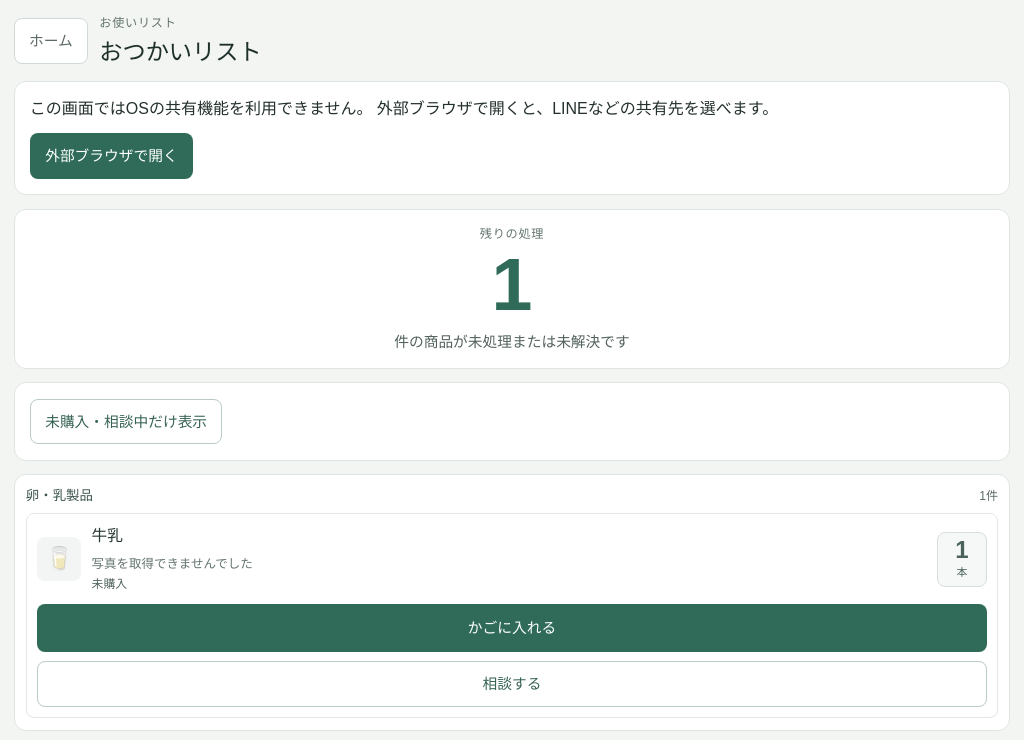
Test: ShoppingListPage product photo isolation › keeps the product and purchase controls usable when photo retrieval fails
What coordinates should you click on to do the following:
click the button "かごに入れる"
I would click on:
 (512, 628)
Its box is [37, 604, 987, 652].
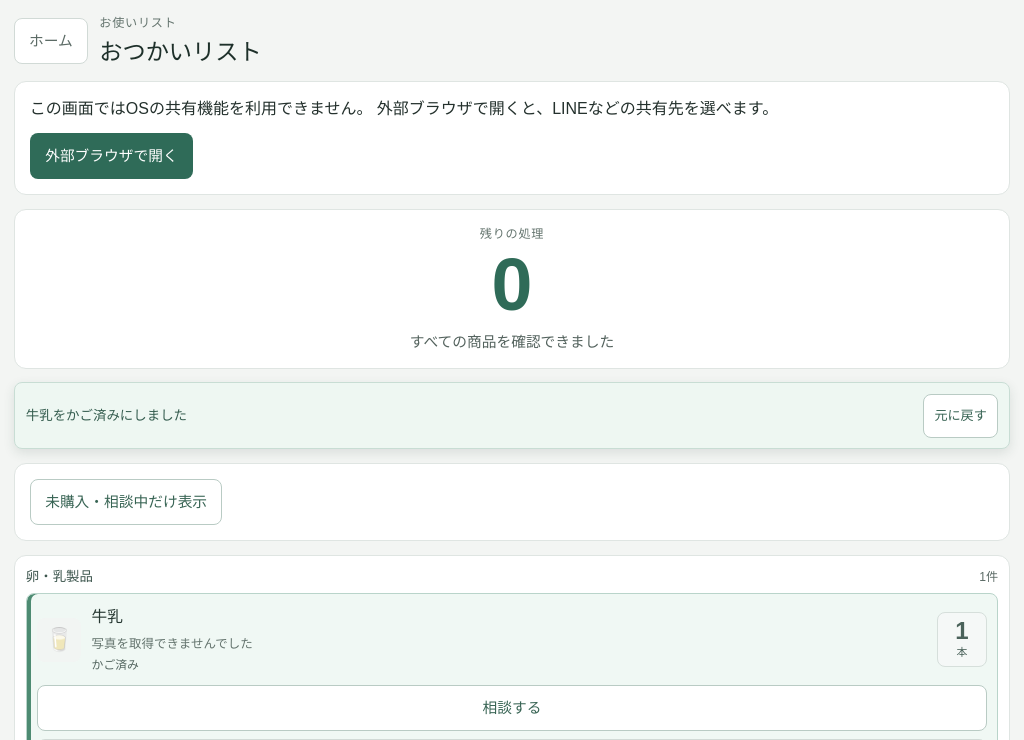
Expected: the text "写真を取得できませんでした" is shown, [92, 638, 253, 652]
Now the text "かご済み" is shown, box [26, 408, 187, 423]
